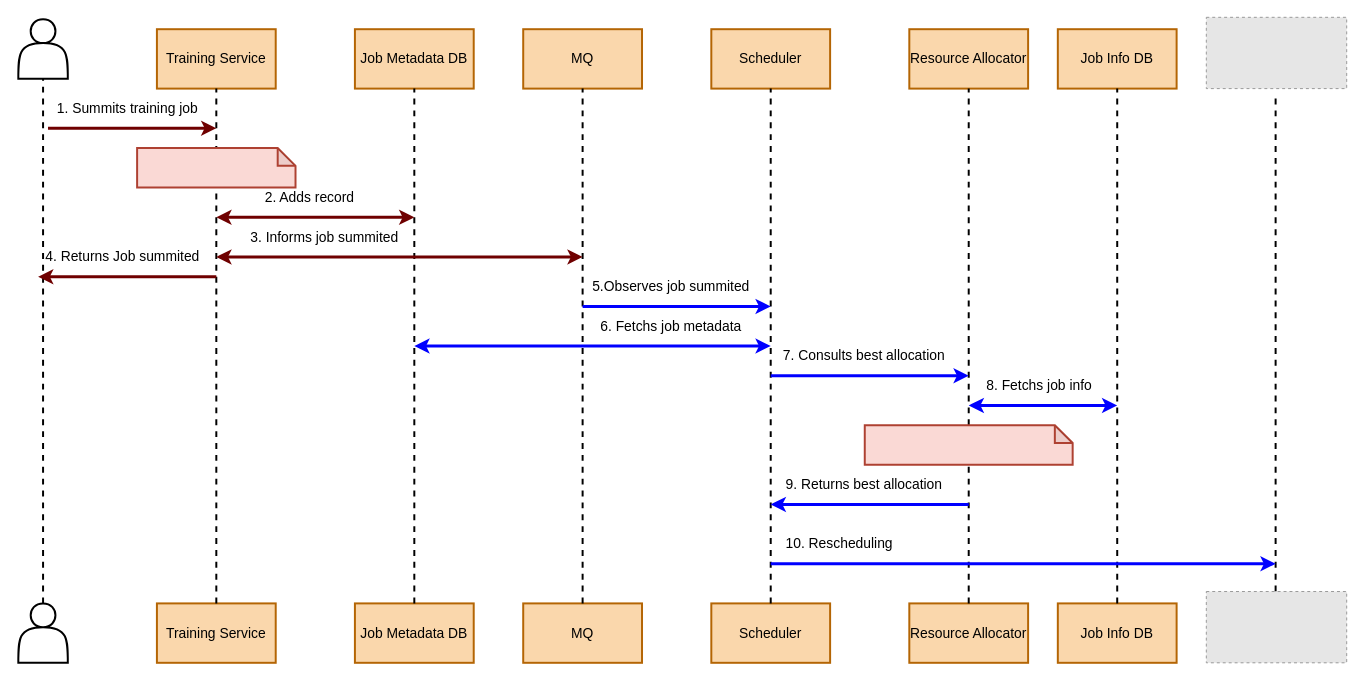
Image size: 1364x681. Some labels were removed from this diagram. Grey dashed boxes stand in for pictures. Each missing label, with the centre of its shape:
"Calculates best allocation" goes at point 968,444.
"Validates job spec" goes at point 216,167.
